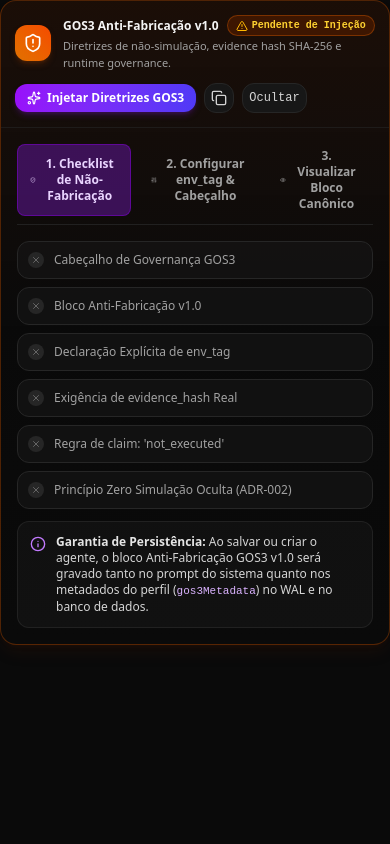
Test case: GOS3SystemInstructionInjector - React Component & Interactions › navigates through tabs: Checklist, Config, and Preview
Expected: the text "Garantia de Persistência:" is shown, [56,533,209,550]
// Tab 2: Config
Click the button "2. Configurar env_tag & Cabeçalho" at (200, 180), box [139,144,260,216]
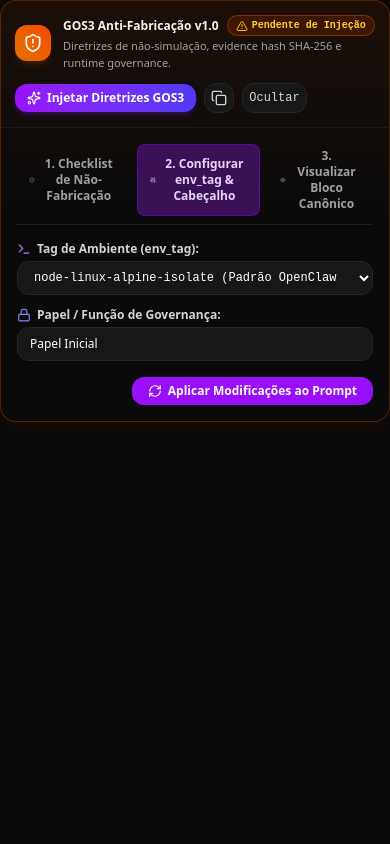
Expected: the text "Tag de Ambiente (env_tag):" is shown, [17,240,199,257]
// Change env_tag and role
Select "browser-v8-isolate (Sem SO / Apenas V8 Isolate)" in the dropdown showing "node-linux-alpine-isolate" at (195, 278), box [17,261,373,295]
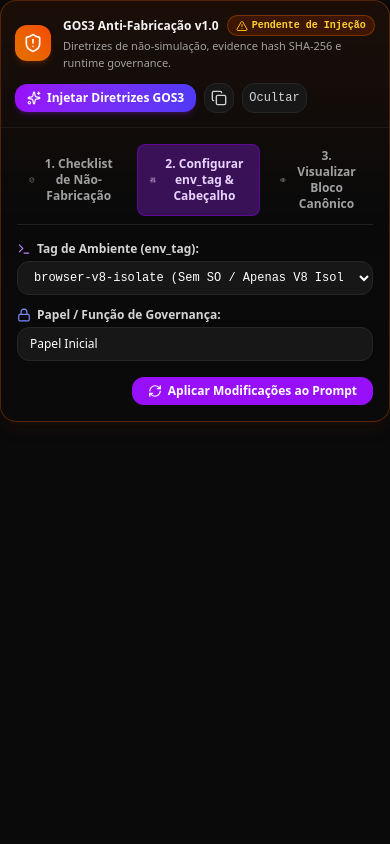
Replace the text in the field with placeholder "Ex: Auditor Formal Lean 4 / Engenheiro BESS" with "Especialista em Criptografia Quântica" at (195, 344), box [17,327,373,361]
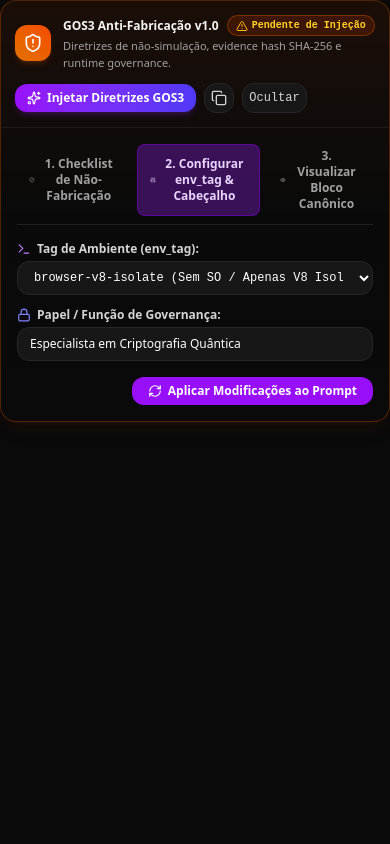
Click the button "Aplicar Modificações ao Prompt" at (252, 391), box [132,377,373,405]
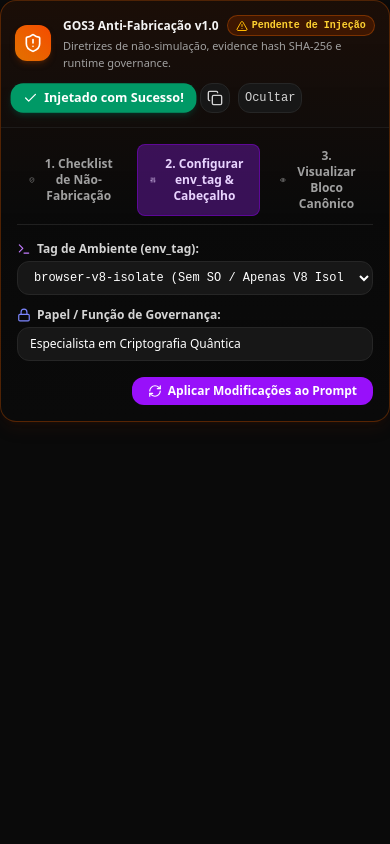
// Tab 3: Preview
Click the button "3. Visualizar Bloco Canônico" at (321, 180), box [268,144,373,216]
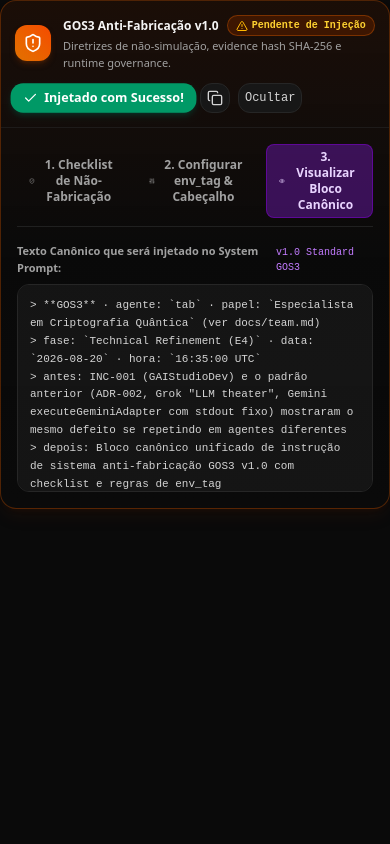
Expected: the text "Texto Canônico que será injetado no System Prompt:" is shown, [17,243,276,276]
Expected: the text "v1.0 Standard GOS3" is shown, [276,246,354,272]
// Switch back to Tab 1: Status
Click the button "1. Checklist de Não-Fabricação" at (73, 181), box [17,144,129,218]
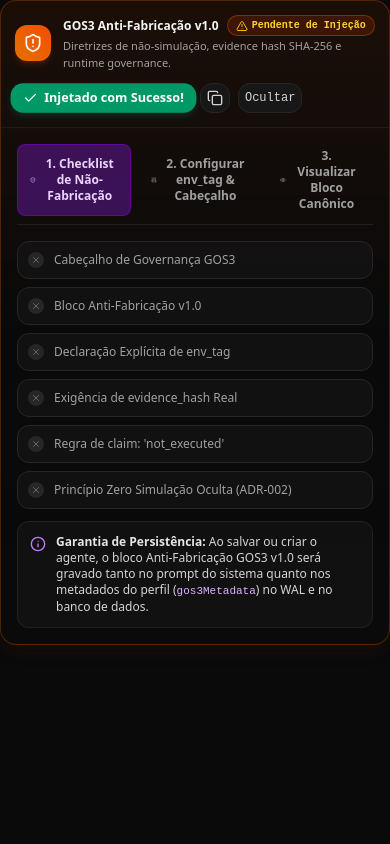
Expected: the text "Garantia de Persistência:" is shown, [56,533,209,550]
